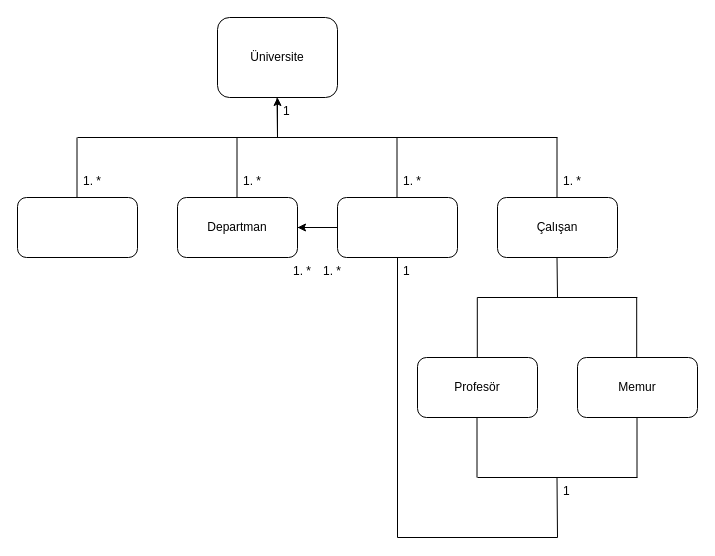
The diagram is 715 pixels wide and 556 high, and some of its shapes have lost their labels. Here are the shapes that lost their labels. From the top down, the centre of each, then its label:
At (x=77, y=227): "Sınıflık".
At (x=397, y=227): "Çalışma ofisleri".
